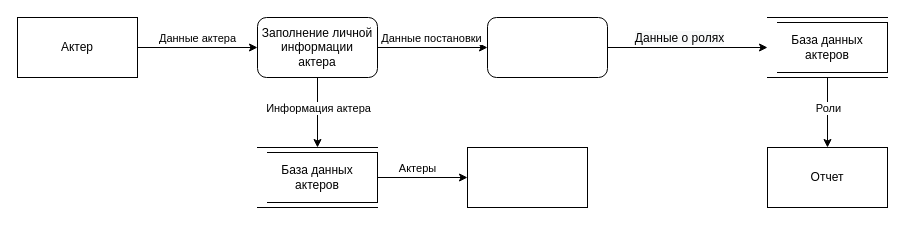
The diagram is 905 pixels wide and 225 high, and some of its shapes have lost their labels. The shapes that lost their labels are listed below. From the top down, each one's box as (x1, y1, x2, y2) in pixels, then its label:
(486, 16, 608, 78): Назначение на роль
(466, 146, 588, 208): CRM система
